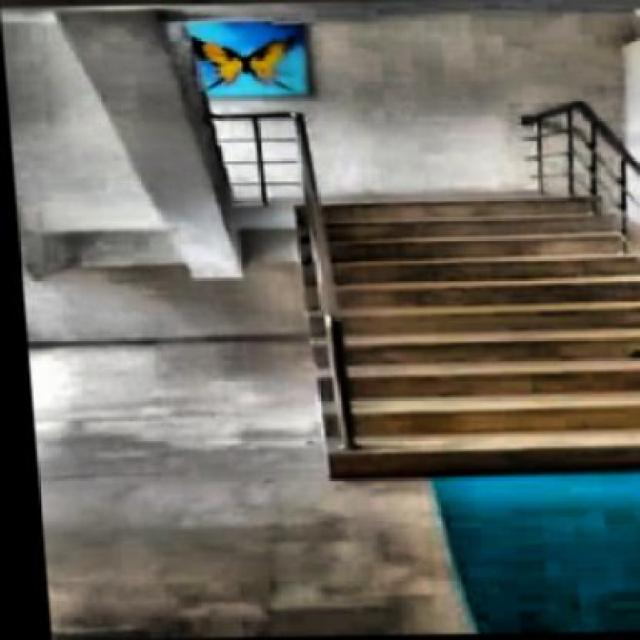stair: (294, 199, 638, 483)
